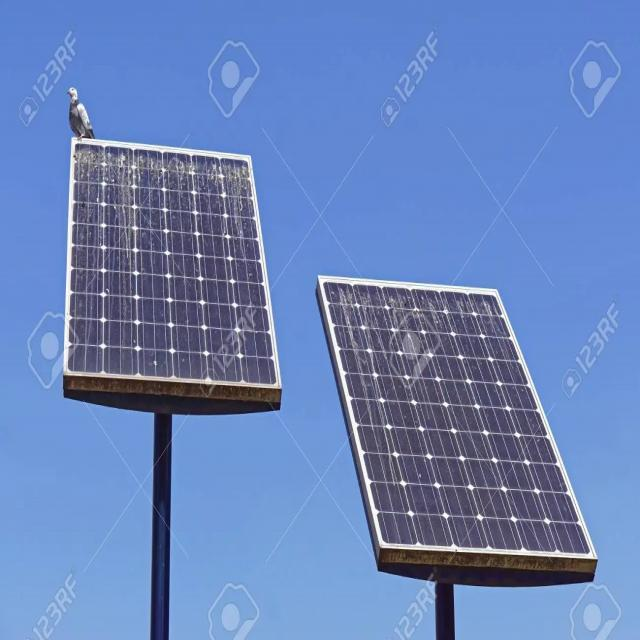faulty: (327, 285, 593, 563), (70, 150, 268, 387)
